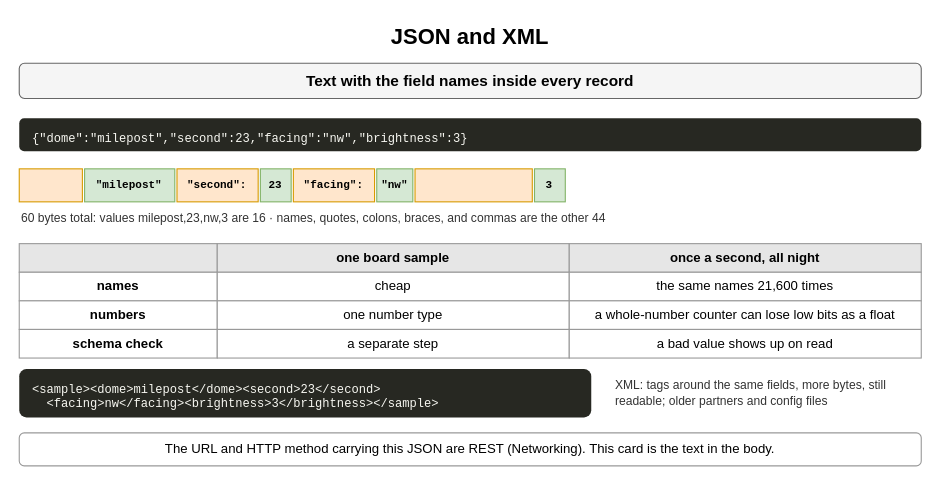
This 941x485 diagram has some shape labels left out. Each missing label, with the box of its shape:
"brightness":: (414, 168, 532, 202)
"dome":: (18, 168, 82, 202)
